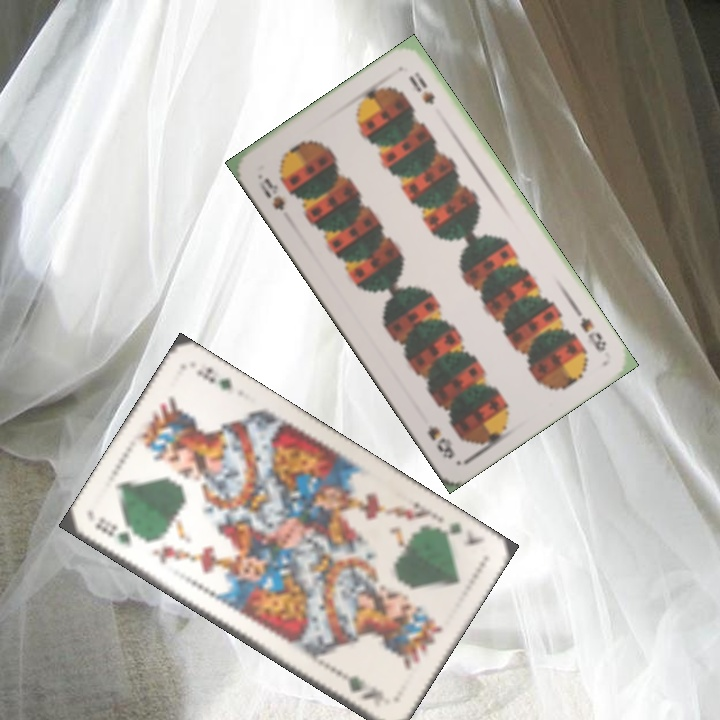GK: (429, 517, 486, 550), (91, 512, 135, 548)
S8: (576, 313, 610, 355), (255, 173, 288, 213)
